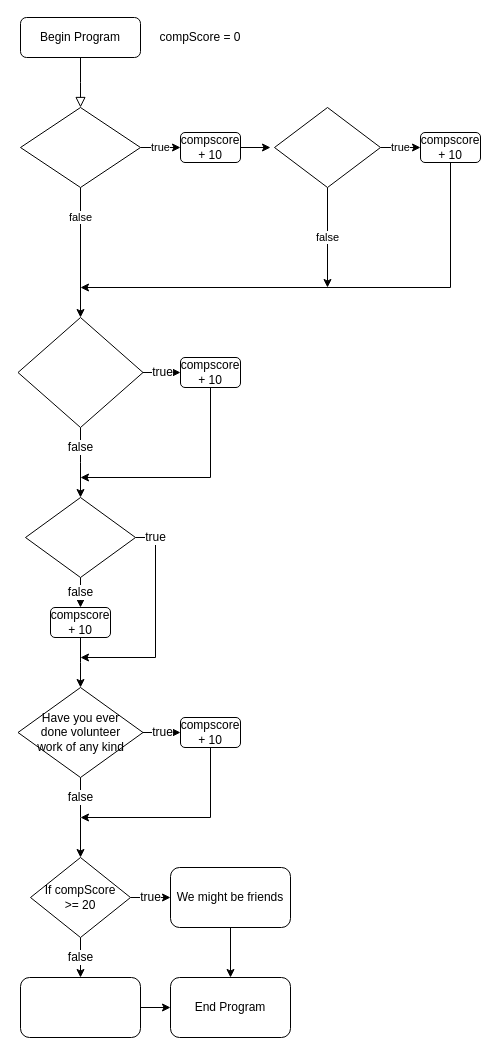
This 498x1055 diagram has some shape labels left out. The shapes that lost their labels are listed below. From the top down, each one's box as (x1, y1, x2, y2) in pixels, then its label:
(20, 106, 140, 188): Do you like video games?
(274, 106, 380, 188): Do you like MMORPGs?
(17, 316, 143, 428): Would you like to live in a small town instead of the city?
(24, 496, 136, 578): Do you like dogs more than cats?
(20, 976, 140, 1038): We might not be friends
